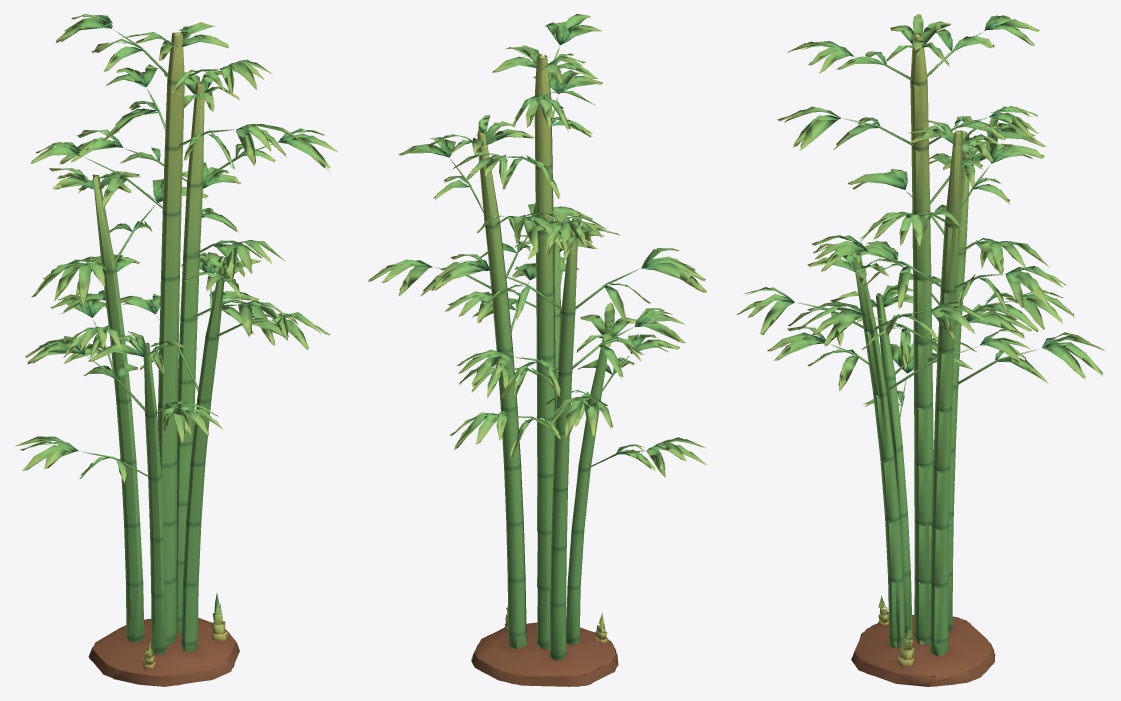
The model's file is bamboo_far.glb.
3 views of the same model, side by side, from view 1: azimuth 30°, elevation 25°; view 2: azimuth 150°, elevation 25°; view 3: azimuth 270°, elevation 25° (orthographic). The views are drawn at different scales.
Parts seen in each view (by area): view 1: bamboo-stalk_body.001; view 2: bamboo-stalk_body.001; view 3: bamboo-stalk_body.001.
Part boxes in pixels (box(x1,y1,x2,y2)): bamboo-stalk_body.001: box(15, 14, 337, 686); bamboo-stalk_body.001: box(368, 14, 706, 686); bamboo-stalk_body.001: box(736, 14, 1105, 686).
Size of the model in its own units: 1.12 by 2.14 by 1.15.
Materials: 1 (1 with a texture image).
